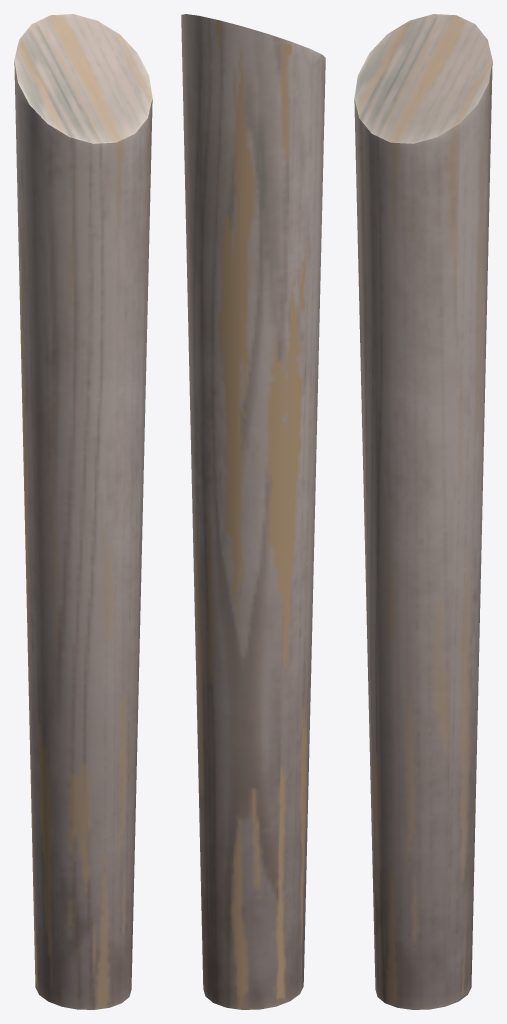
File: SM_Fence_07.fbx
3 views of the same model, side by side, from view 1: azimuth 30°, elevation 25°; view 2: azimuth 150°, elevation 25°; view 3: azimuth 330°, elevation 25° (orthographic). The views are drawn at different scales.
Visible parts, largest first — view 1: SM_Fence_07_LOD0; view 2: SM_Fence_07_LOD0; view 3: SM_Fence_07_LOD0.
Boxes of the visible parts, bbox=[...] form: SM_Fence_07_LOD0: bbox=[14, 14, 152, 1009]; SM_Fence_07_LOD0: bbox=[181, 14, 325, 1009]; SM_Fence_07_LOD0: bbox=[354, 14, 492, 1009].
Bounding box in the file's own units: 12.78 × 12.17 × 96.8.
Materials: 1 (1 with a texture image).
